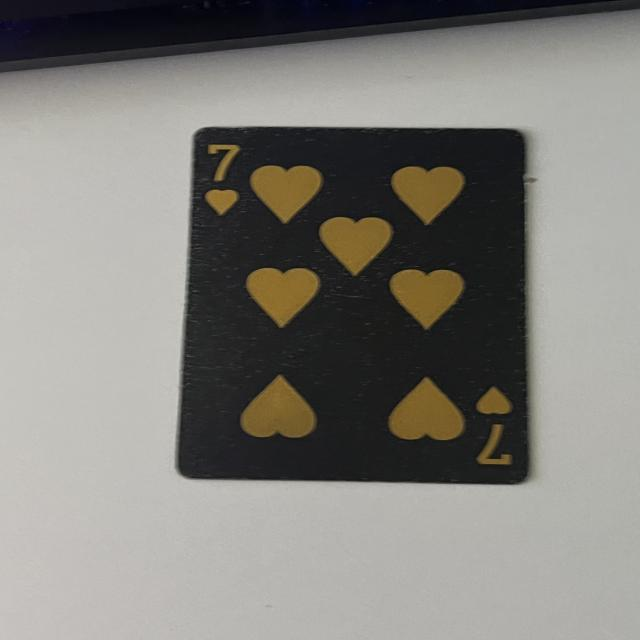7H: (468, 380, 522, 471), (193, 136, 242, 220)
